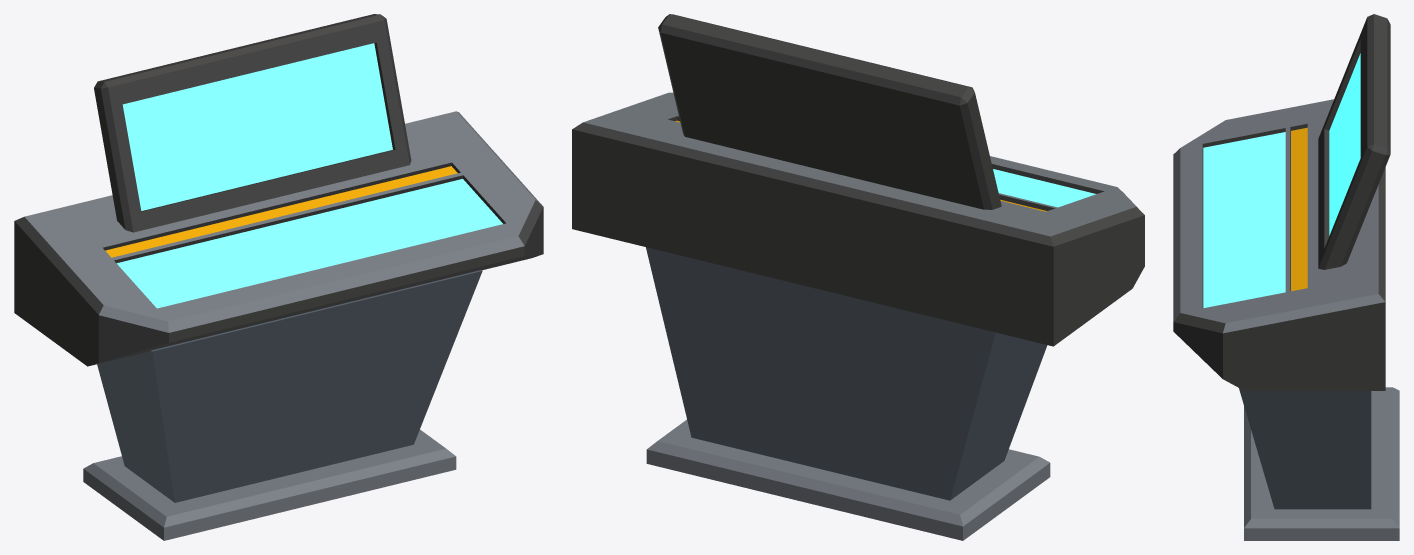
Rendered from free_console.glb.
The picture shows the model from 3 angles, left to right: view 1: azimuth 30°, elevation 25°; view 2: azimuth 150°, elevation 25°; view 3: azimuth 270°, elevation 25°; orthographic projection. The views are drawn at different scales.
Visible parts, largest first — view 1: free_console; view 2: free_console; view 3: free_console.
Part boxes in pixels (x1,y1,x2,y2): free_console: [14, 14, 543, 540]; free_console: [572, 14, 1144, 540]; free_console: [1173, 14, 1399, 540].
Bounding box in the file's own units: 1.4 × 1.23 × 0.64.
